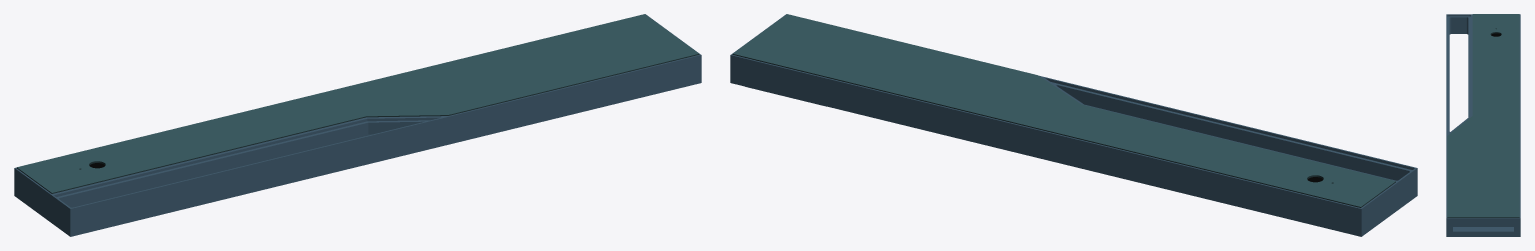
3 views of the same model, side by side, from view 1: azimuth 30°, elevation 25°; view 2: azimuth 150°, elevation 25°; view 3: azimuth 270°, elevation 25° (orthographic). The views are drawn at different scales.
Parts seen in each view (by area): view 1: SketchUp (×5); view 2: SketchUp (×5); view 3: SketchUp (×6).
Part boxes in pixels (x1,y1,x2,y2): SketchUp (×5): (14,14,701,236); SketchUp (×5): (730,14,1417,236); SketchUp (×6): (1446,14,1520,236).
Size of the model in its own units: 51.18 by 7.87 by 2.49.
